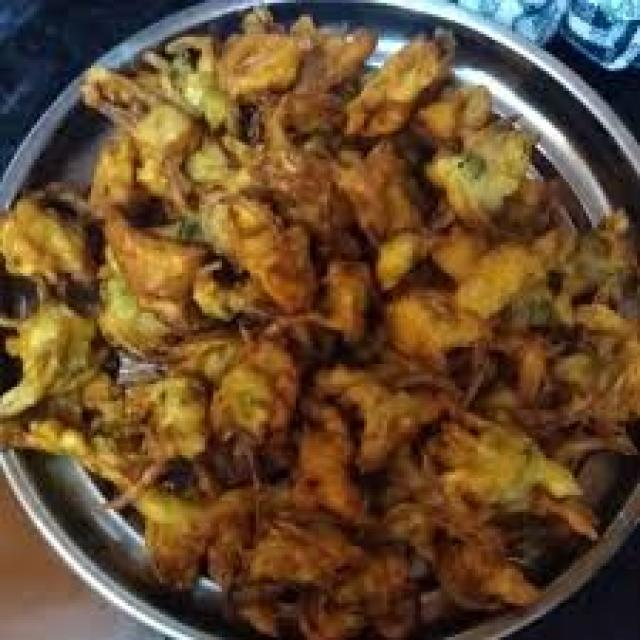BAJI: (0, 11, 637, 637)
